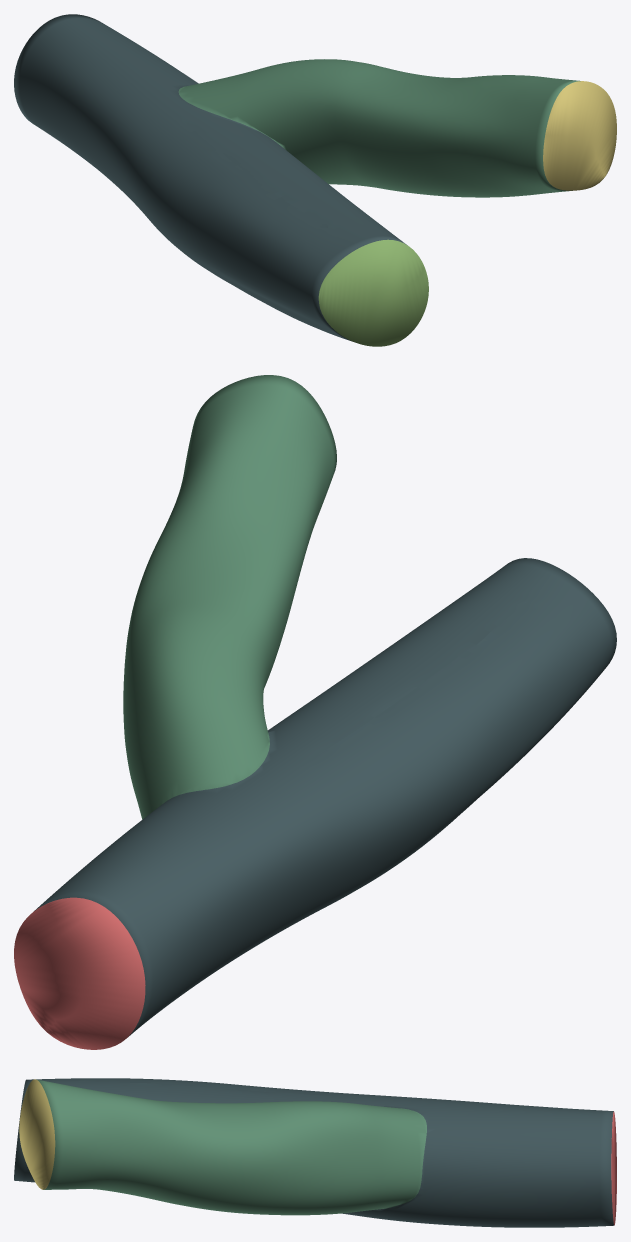
Rendered from 3D Model - Shape Keys.fbx.
The picture shows the model from 3 angles, top to bottom: view 1: azimuth 30°, elevation 25°; view 2: azimuth 150°, elevation 25°; view 3: azimuth 270°, elevation 25°; orthographic projection. The views are drawn at different scales.
Parts seen in each view (by area): view 1: imagetostl_mesh0.001; view 2: imagetostl_mesh0.001; view 3: imagetostl_mesh0.001.
Boxes of the visible parts, box(x1,y1,x2,y2) form: imagetostl_mesh0.001: box(14, 14, 616, 346); imagetostl_mesh0.001: box(14, 375, 616, 1049); imagetostl_mesh0.001: box(14, 1078, 616, 1227).
Bounding box in the file's own units: 29.77 × 21.33 × 54.64.
